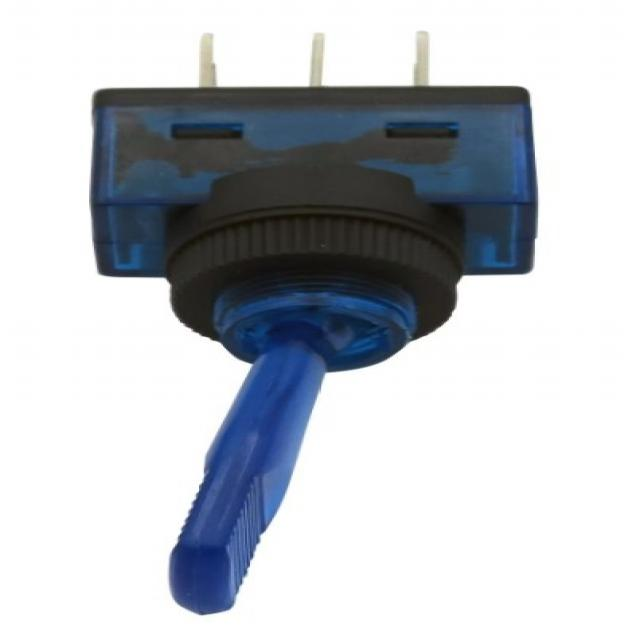toggle switch: (159, 163, 463, 616)
